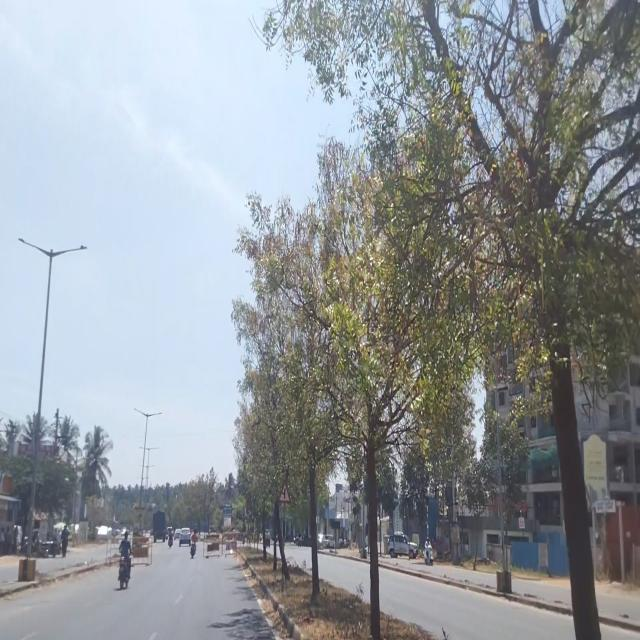bien_cam: (277, 483, 292, 502)
